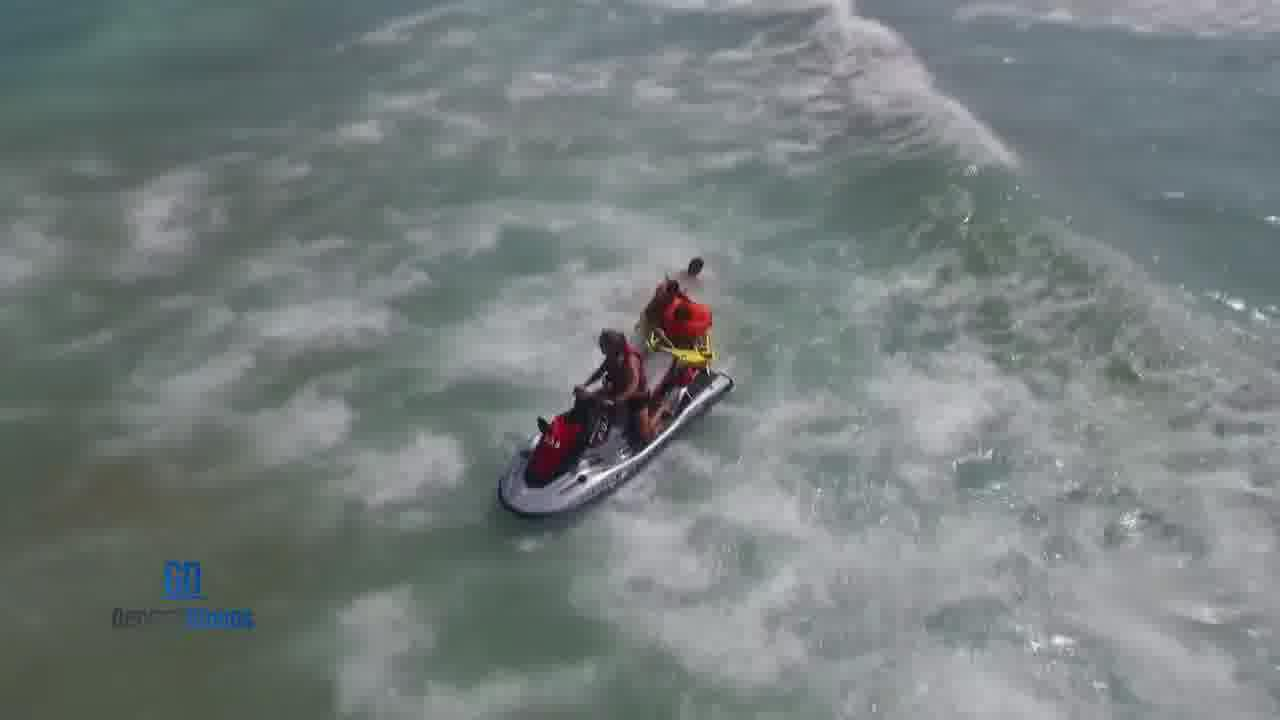swimmer: (670, 245, 719, 285)
